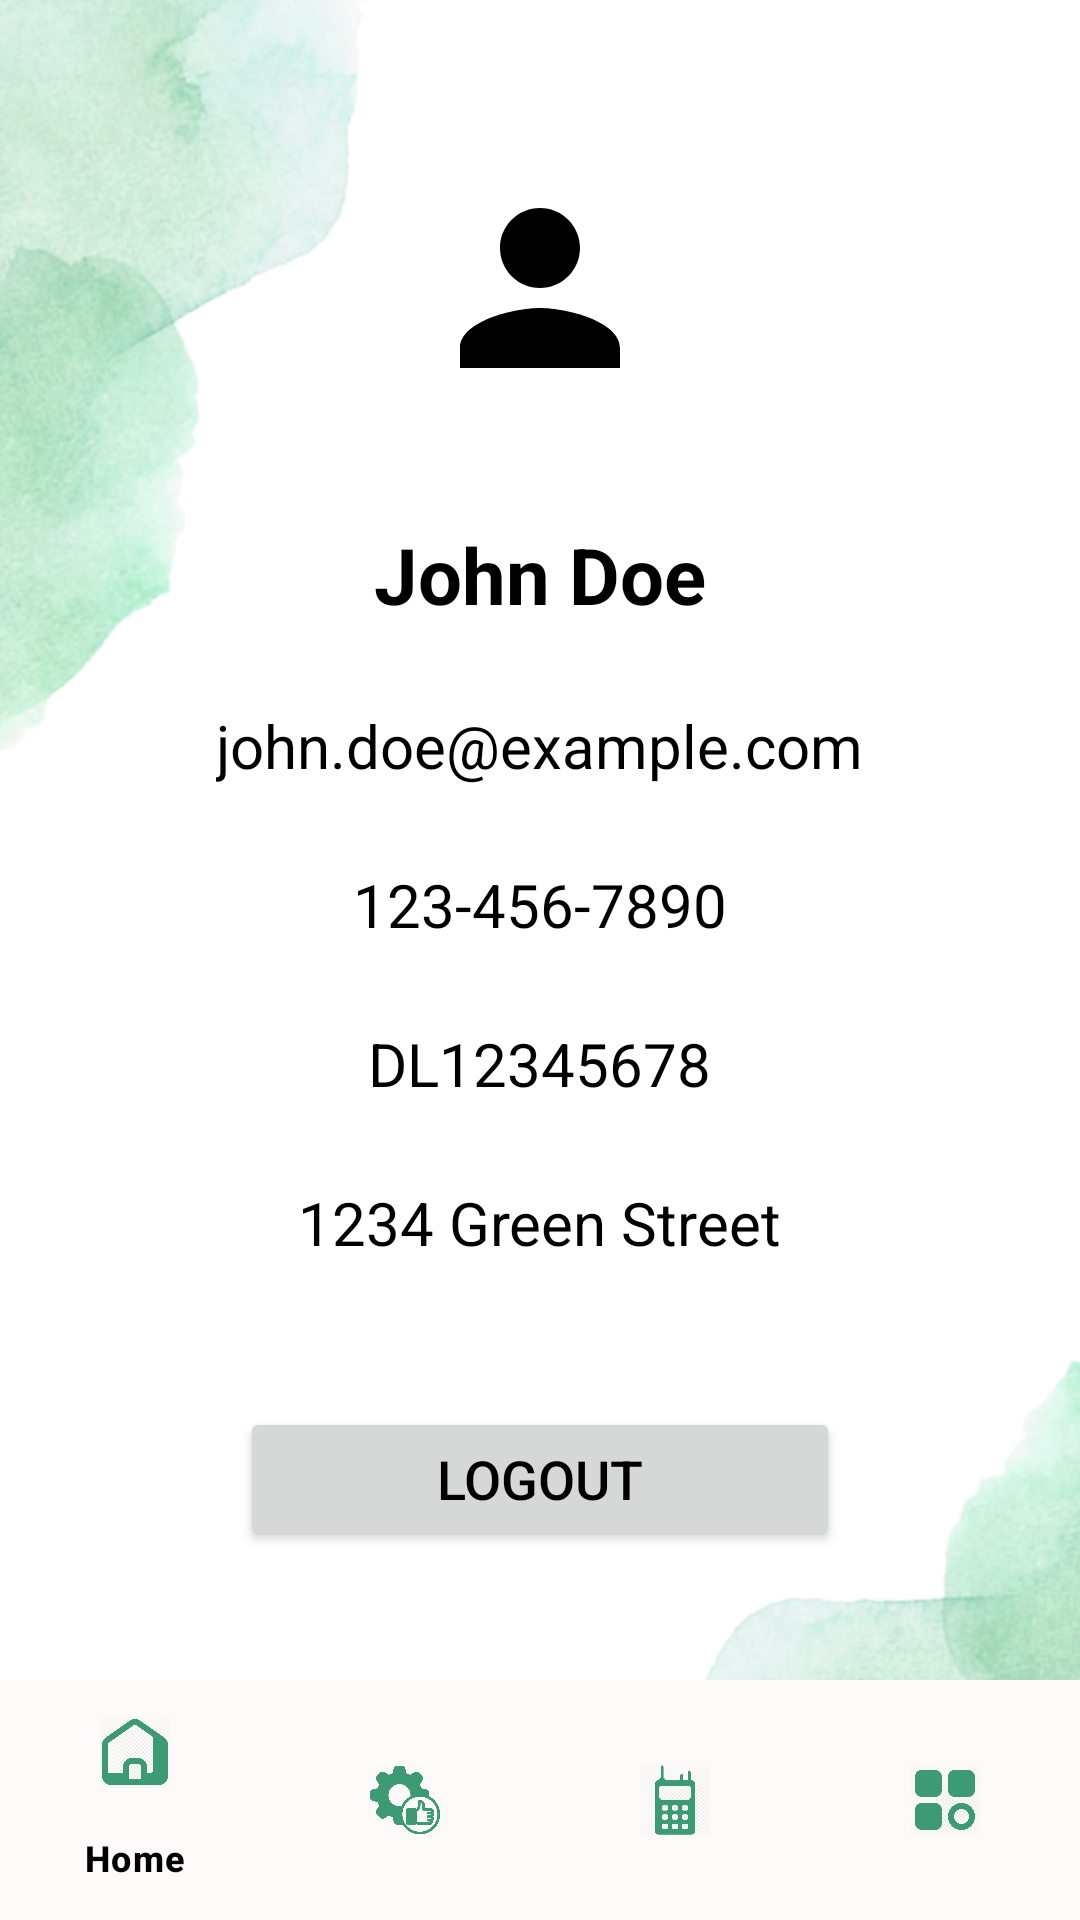

Point at icon controls on the screen. Image size 1080 x 1920, points as (x=x, y=y).
person: (x=540, y=288)
